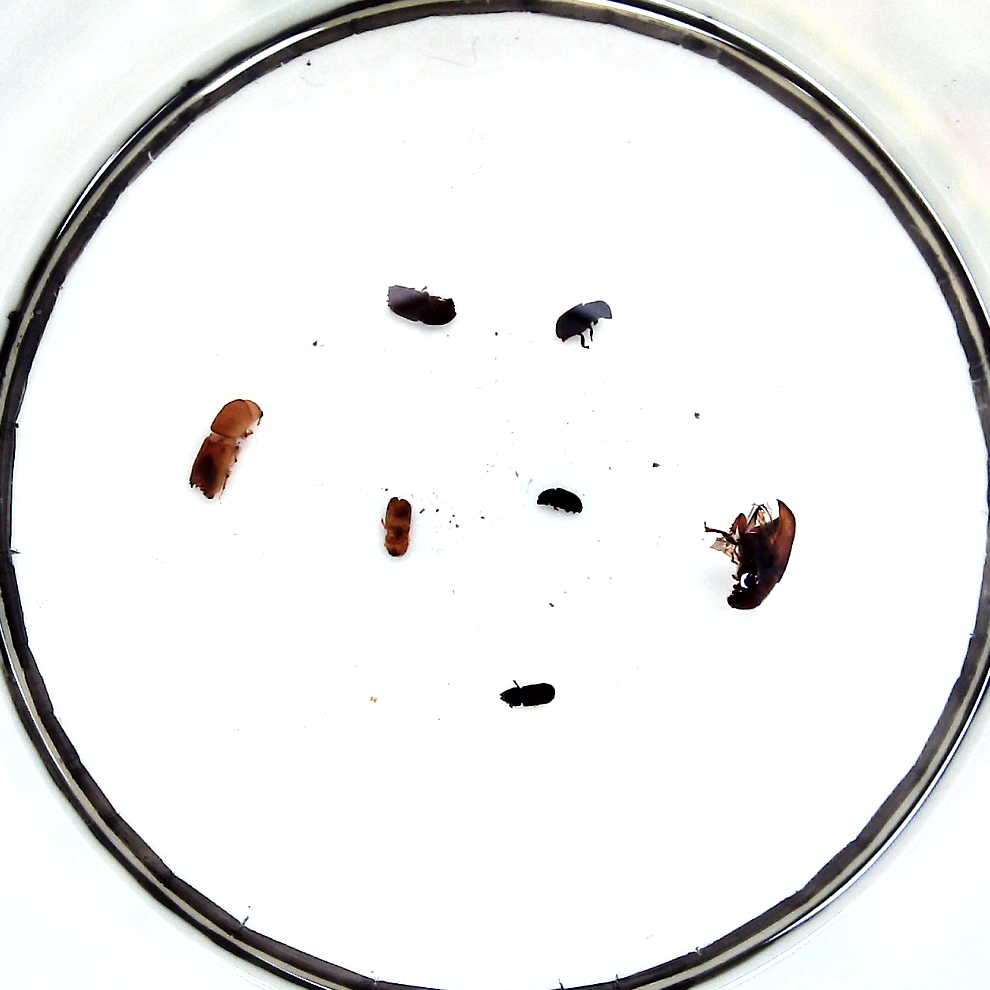Boerner: (194, 399, 259, 501)
Leconte: (708, 499, 799, 617)
Linnaeus: (387, 281, 456, 324)
acuminatus: (381, 496, 412, 557)
armandi: (554, 302, 614, 348)
coleoptera: (536, 486, 584, 518), (506, 686, 554, 709)
